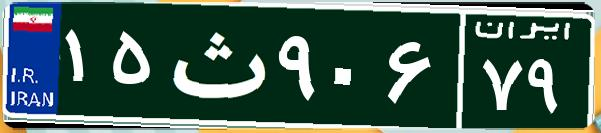0: (330, 28, 385, 110)
1: (57, 26, 110, 107)
5: (110, 28, 158, 105)
6: (385, 28, 445, 110)
7: (475, 38, 525, 113)
9: (273, 28, 330, 110), (525, 38, 570, 115)
ث: (158, 15, 273, 115)
